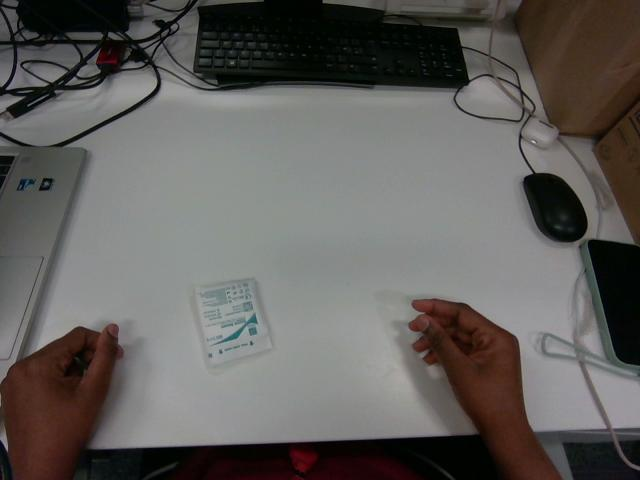gauze: (194, 279, 271, 366)
